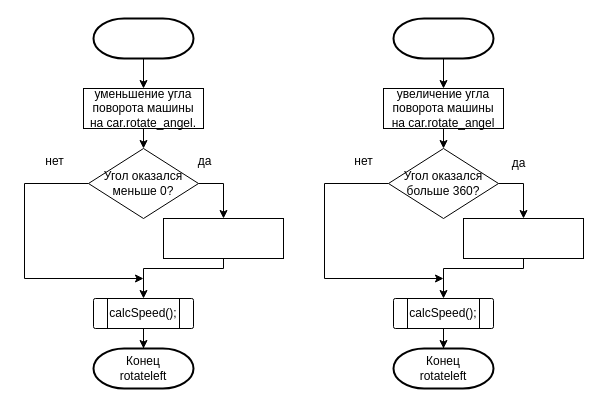
Image size: 601x406. Some labels were removed from this diagram. Here are the shapes that lost their labels. From the top down, the centre of each, then its label:
the point at 143,38: Начало rotateLeft
the point at 443,38: Начало rotateright
the point at 223,238: car.angel = 360 - car.angel;
the point at 523,238: car.angel = car.angel - 360;
